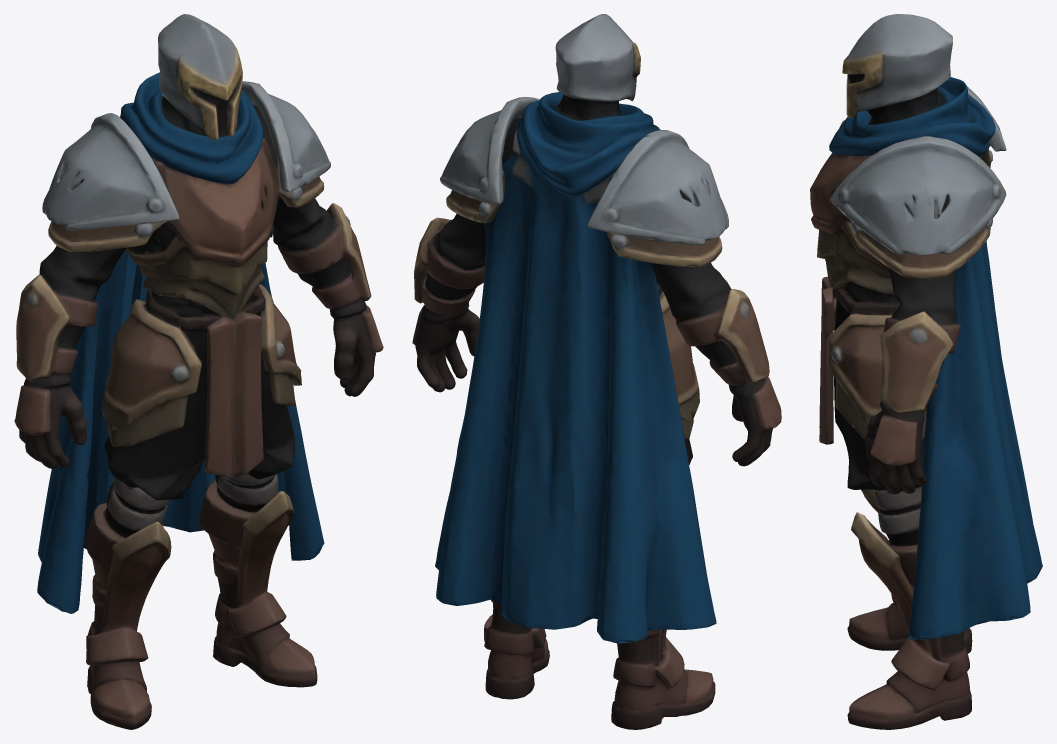
File: guard1.glb
The picture shows the model from 3 angles, left to right: view 1: azimuth 30°, elevation 25°; view 2: azimuth 150°, elevation 25°; view 3: azimuth 270°, elevation 25°; orthographic projection.
Visible parts, largest first — view 1: world; view 2: world; view 3: world.
Part boxes in pixels (left/top/right/bottom): world: left=14, top=14, right=383, bottom=729; world: left=412, top=14, right=781, bottom=729; world: left=810, top=14, right=1042, bottom=729.
Size of the model in its own units: 0.5614 by 1 by 0.3174.
Materials: 1 (1 with a texture image).
